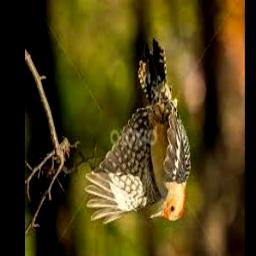Woodpecker: (85, 39, 192, 225)
